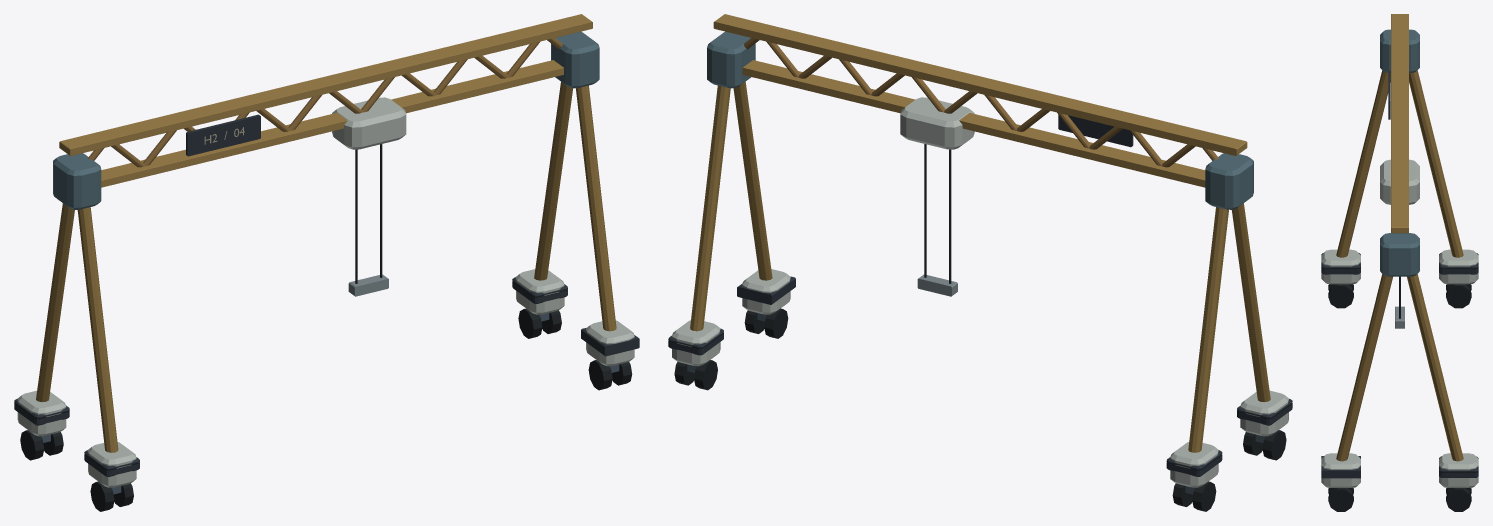
The model's file is HG-04_freight_gantry.glb.
3 views of the same model, side by side, from view 1: azimuth 30°, elevation 25°; view 2: azimuth 150°, elevation 25°; view 3: azimuth 270°, elevation 25° (orthographic). The views are drawn at different scales.
Visible parts, largest first — view 1: HG-04_freight_gantry; view 2: HG-04_freight_gantry; view 3: HG-04_freight_gantry.
Part boxes in pixels (bbox=[...]): HG-04_freight_gantry: bbox=[14, 14, 639, 511]; HG-04_freight_gantry: bbox=[668, 14, 1292, 511]; HG-04_freight_gantry: bbox=[1321, 14, 1478, 511].
Size of the model in its own units: 9.29 by 5.64 by 2.84.
